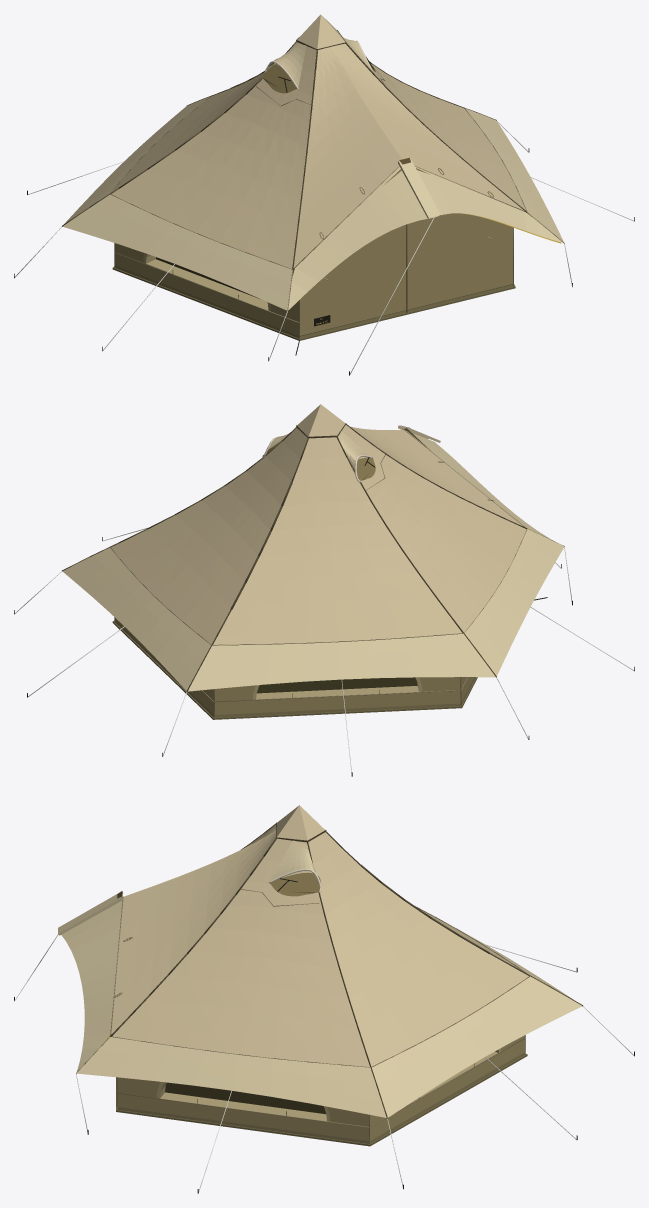
Rendered from ogawa-glocke-8.glb.
3 views of the same model, one above another, from view 1: azimuth 30°, elevation 25°; view 2: azimuth 150°, elevation 25°; view 3: azimuth 270°, elevation 25° (orthographic). The views are drawn at different scales.
Parts seen in each view (by area): view 1: ogawa-glocke-8-fly, ogawa-glocke-8-band, ogawa-glocke-8-door, ogawa-glocke-8-wall, ogawa-glocke-8-seam, ogawa-glocke-8-seamlight, ogawa-glocke-8-hem, ogawa-glocke-8-sheet, ogawa-glocke-8-frame, ogawa-glocke-8-rope, ogawa-glocke-8-ventin; view 2: ogawa-glocke-8-fly, ogawa-glocke-8-band, ogawa-glocke-8-wall, ogawa-glocke-8-seam, ogawa-glocke-8-mesh, ogawa-glocke-8-seamlight, ogawa-glocke-8-frame, ogawa-glocke-8-hem, ogawa-glocke-8-sheet, ogawa-glocke-8-rope; view 3: ogawa-glocke-8-fly, ogawa-glocke-8-band, ogawa-glocke-8-wall, ogawa-glocke-8-seam, ogawa-glocke-8-seamlight, ogawa-glocke-8-frame, ogawa-glocke-8-mesh, ogawa-glocke-8-hem, ogawa-glocke-8-sheet, ogawa-glocke-8-ventin, ogawa-glocke-8-rope.
Boxes of the visible parts, x1=… form: ogawa-glocke-8-fly: x1=63, y1=14, x2=525, y2=310; ogawa-glocke-8-band: x1=63, y1=37, x2=563, y2=310; ogawa-glocke-8-door: x1=300, y1=168, x2=512, y2=335; ogawa-glocke-8-wall: x1=115, y1=243, x2=299, y2=335; ogawa-glocke-8-seam: x1=62, y1=30, x2=526, y2=269; ogawa-glocke-8-seamlight: x1=110, y1=66, x2=564, y2=338; ogawa-glocke-8-hem: x1=114, y1=265, x2=513, y2=338; ogawa-glocke-8-sheet: x1=112, y1=266, x2=515, y2=340; ogawa-glocke-8-frame: x1=143, y1=253, x2=270, y2=311; ogawa-glocke-8-rope: x1=14, y1=121, x2=634, y2=375; ogawa-glocke-8-ventin: x1=262, y1=63, x2=375, y2=93; ogawa-glocke-8-fly: x1=62, y1=404, x2=562, y2=691; ogawa-glocke-8-band: x1=62, y1=425, x2=564, y2=691; ogawa-glocke-8-wall: x1=115, y1=618, x2=474, y2=714; ogawa-glocke-8-seam: x1=62, y1=423, x2=526, y2=691; ogawa-glocke-8-mesh: x1=257, y1=677, x2=417, y2=693; ogawa-glocke-8-seamlight: x1=110, y1=429, x2=564, y2=717; ogawa-glocke-8-frame: x1=252, y1=677, x2=422, y2=699; ogawa-glocke-8-hem: x1=114, y1=619, x2=475, y2=717; ogawa-glocke-8-sheet: x1=112, y1=621, x2=477, y2=719; ogawa-glocke-8-rope: x1=14, y1=441, x2=634, y2=772; ogawa-glocke-8-fly: x1=77, y1=805, x2=581, y2=1117; ogawa-glocke-8-band: x1=58, y1=840, x2=581, y2=1117; ogawa-glocke-8-wall: x1=118, y1=1035, x2=524, y2=1140; ogawa-glocke-8-seam: x1=110, y1=822, x2=582, y2=1118; ogawa-glocke-8-seamlight: x1=76, y1=889, x2=530, y2=1143; ogawa-glocke-8-frame: x1=156, y1=1048, x2=501, y2=1121; ogawa-glocke-8-mesh: x1=165, y1=1082, x2=325, y2=1114; ogawa-glocke-8-hem: x1=117, y1=1052, x2=525, y2=1143; ogawa-glocke-8-sheet: x1=116, y1=1053, x2=527, y2=1146; ogawa-glocke-8-ventin: x1=269, y1=872, x2=320, y2=896; ogawa-glocke-8-rope: x1=14, y1=934, x2=634, y2=1192.
Size of the model in its own units: 5.3 by 2.26 by 5.05.
